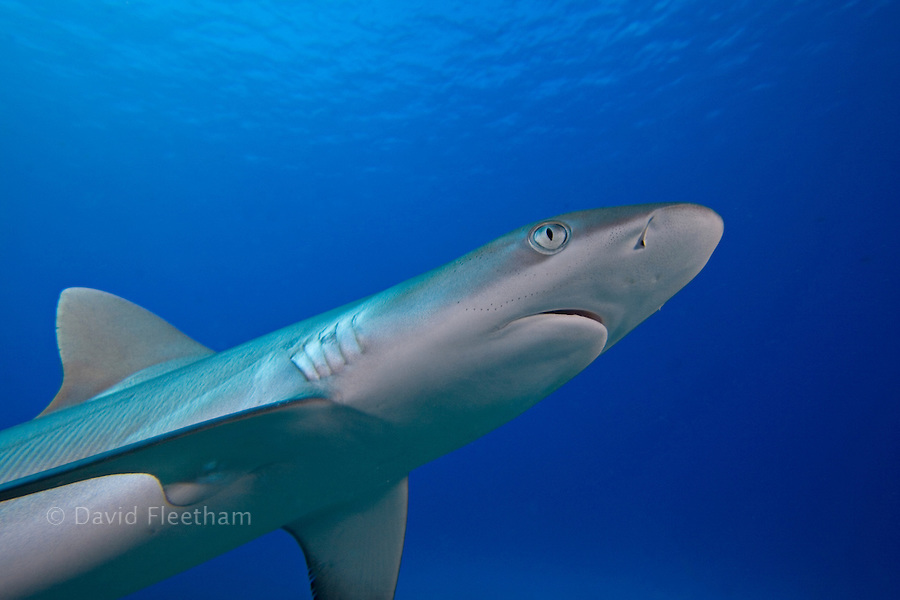Carcharhinus_amblyrhynchos: (1, 166, 746, 600)
